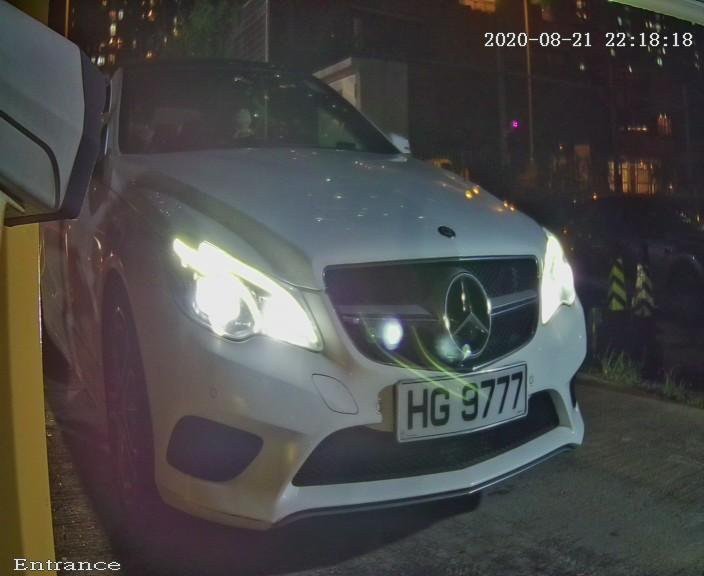Car: (35, 3, 648, 571)
License Plate: (365, 344, 551, 466)
